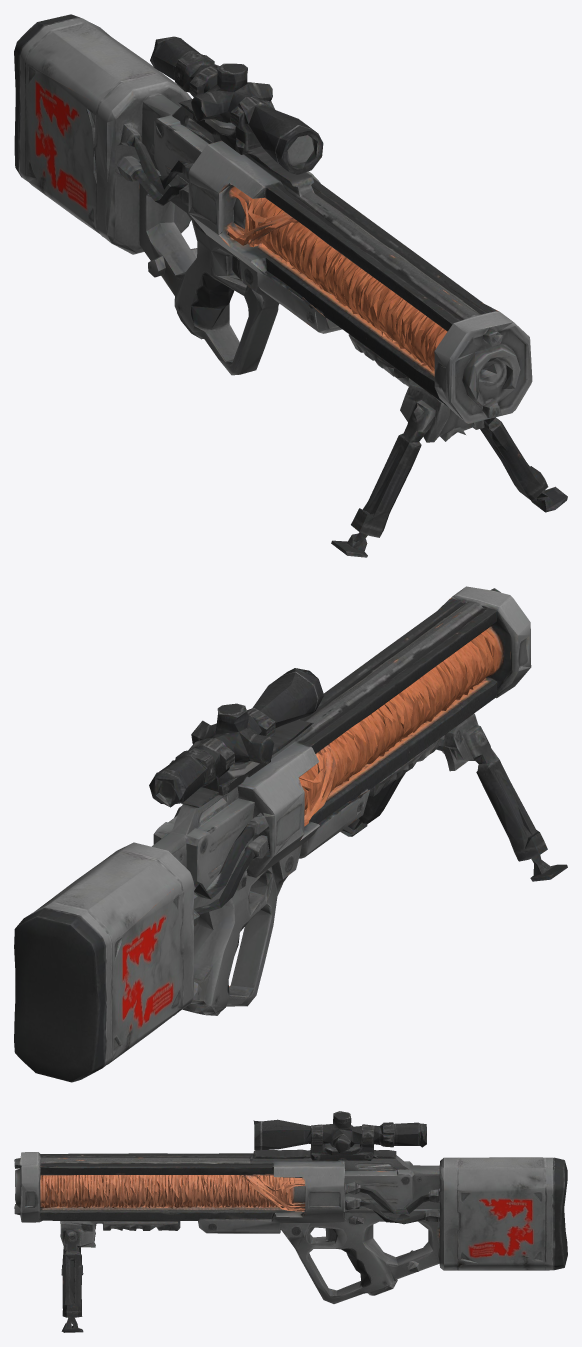
Rendered from coppercoil.high.glb.
The picture shows the model from 3 angles, top to bottom: view 1: azimuth 30°, elevation 25°; view 2: azimuth 150°, elevation 25°; view 3: azimuth 270°, elevation 25°; orthographic projection. The views are drawn at different scales.
Visible parts, largest first — view 1: model; view 2: model; view 3: model.
Part boxes in pixels (box(x1,y1,x2,y2)): model: box(14, 14, 567, 557); model: box(14, 586, 567, 1082); model: box(14, 1111, 567, 1332).
Size of the model in its own units: 0.3329 by 0.4319 by 1.15.
1 material, 1 textured.
